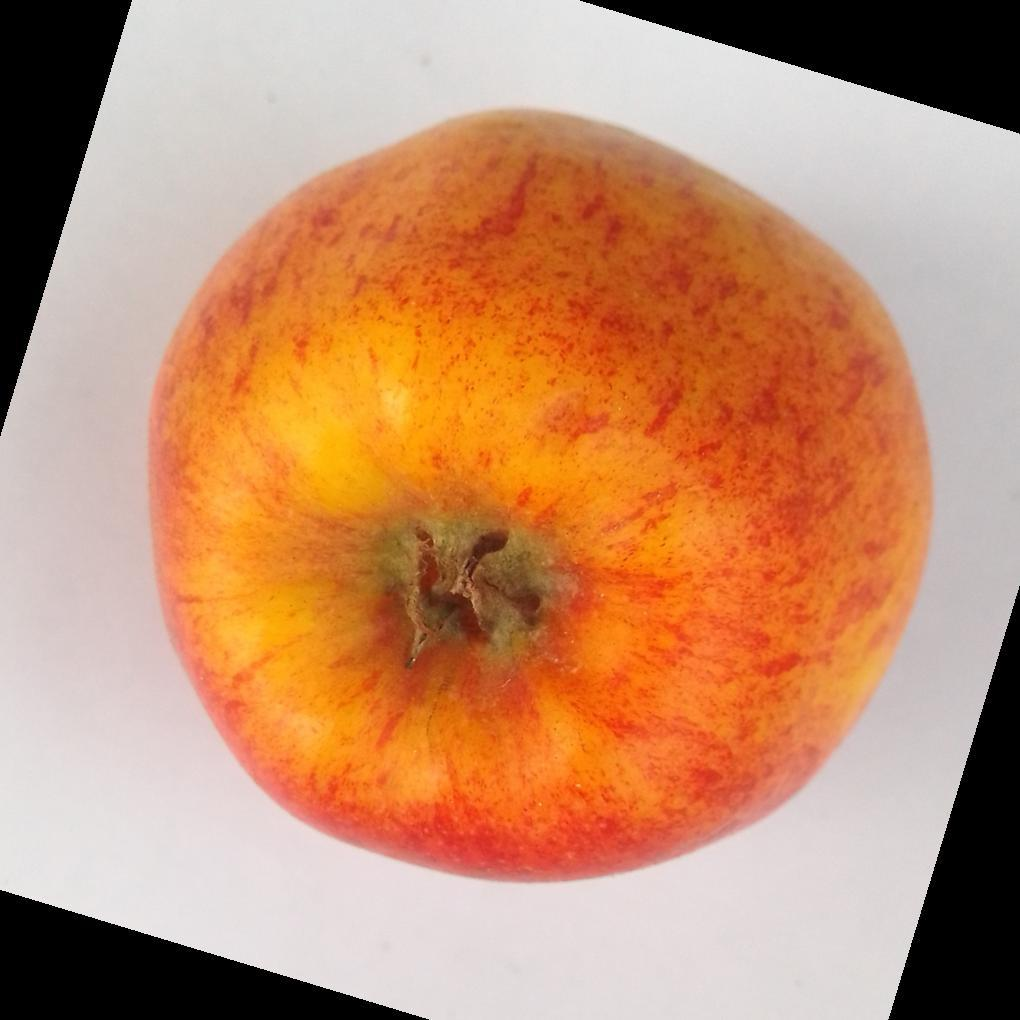FreshGuava: (146, 109, 936, 887)
